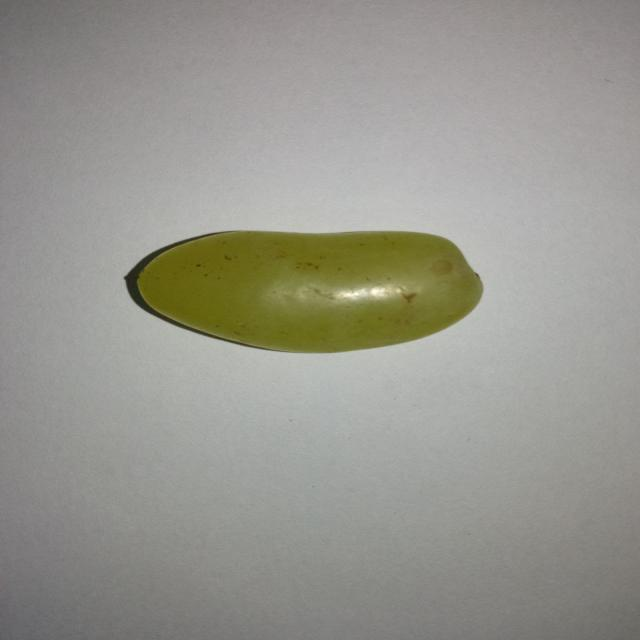fresh_grape: (134, 229, 481, 350)
